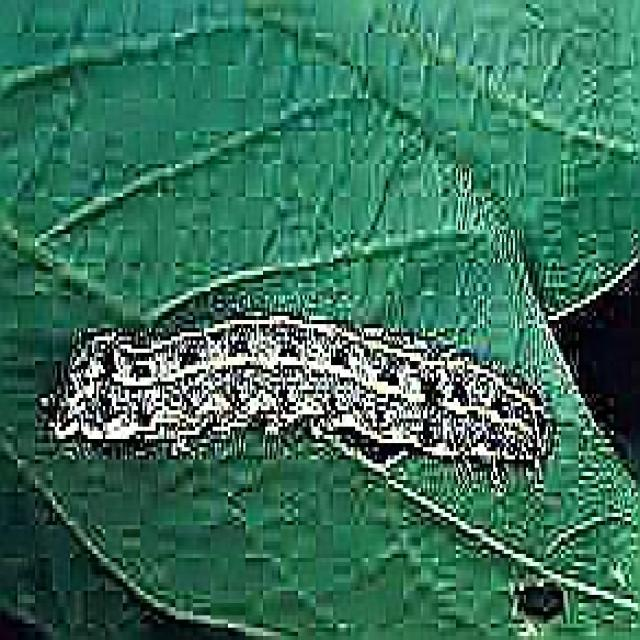Armyworm: (41, 283, 572, 570)
